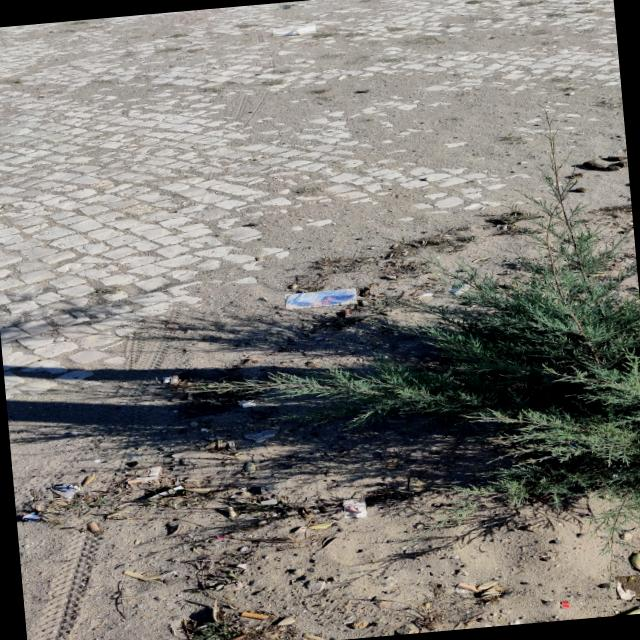Cigarette: (129, 476, 160, 483), (241, 612, 270, 619), (87, 521, 102, 534), (456, 584, 476, 592), (237, 399, 255, 406), (149, 466, 161, 475), (413, 293, 427, 299), (242, 402, 255, 407), (170, 375, 178, 383), (361, 289, 370, 296), (163, 376, 170, 383), (343, 309, 349, 316), (394, 244, 399, 247)
Drink can: (286, 289, 356, 306)
Other plastic: (23, 513, 38, 520)
Paper bag: (274, 25, 316, 35)
Unlabeled litter: (615, 577, 640, 599), (146, 485, 185, 499), (52, 483, 79, 499), (344, 500, 366, 517), (380, 43, 389, 45)
